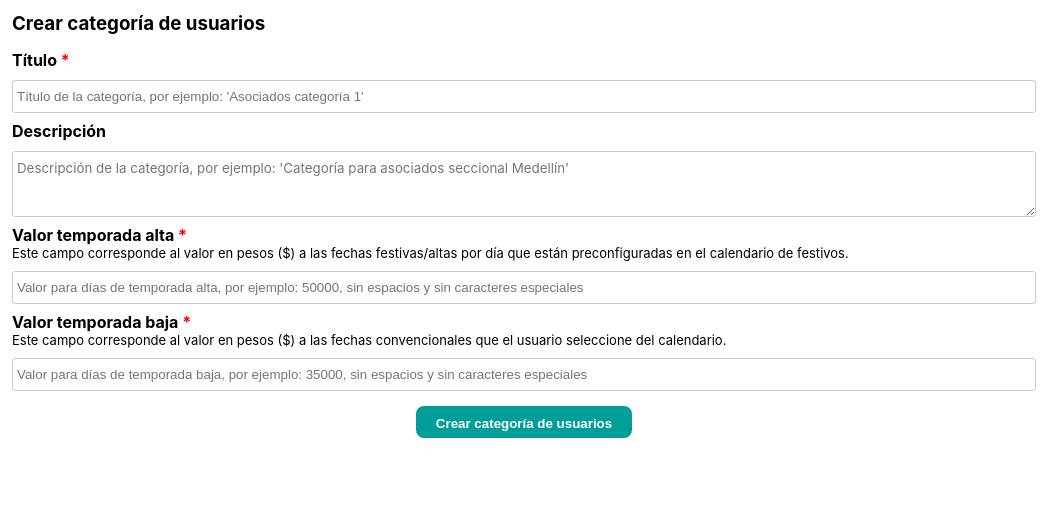
Test: CrearCategoria test › Debería fallar al no tener los valores obligatorios presentes
The image size is (1048, 531).
Click the submit button. click: (524, 422)
box: [416,406,632,438]
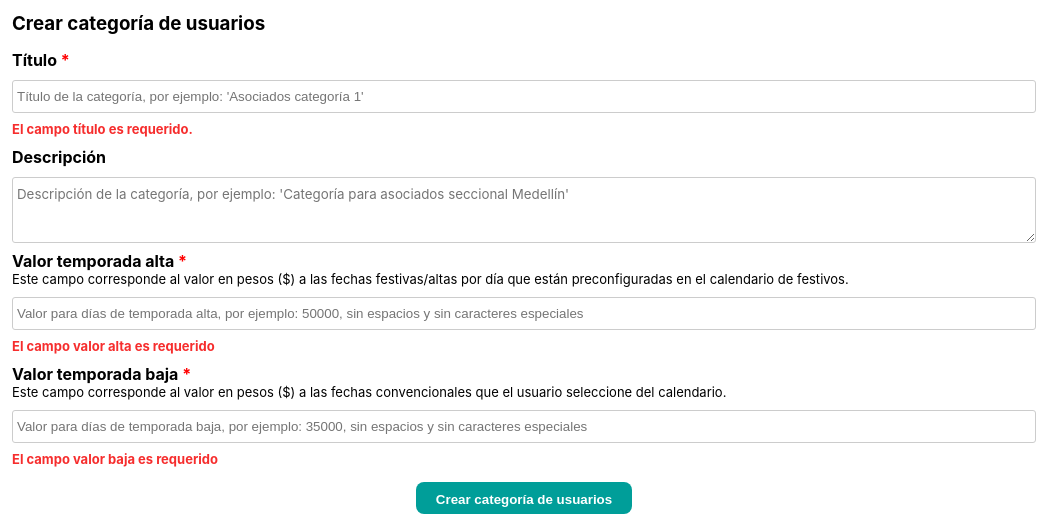
Expected: the text "El campo título es requerido." is shown, [12,121,193,137]
Expected: the text "El campo valor alta es requerido" is shown, [12,338,215,354]
Expected: the text "El campo valor baja es requerido" is shown, [12,451,218,467]
